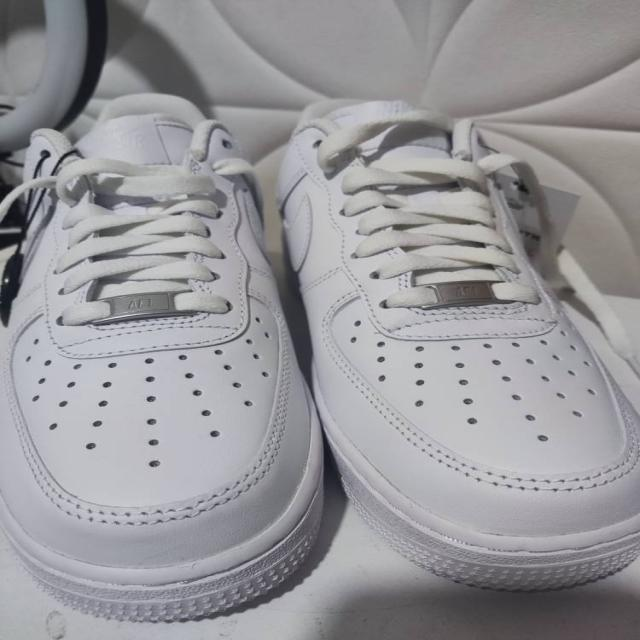nike original air force: (271, 96, 640, 598), (0, 74, 329, 626)
